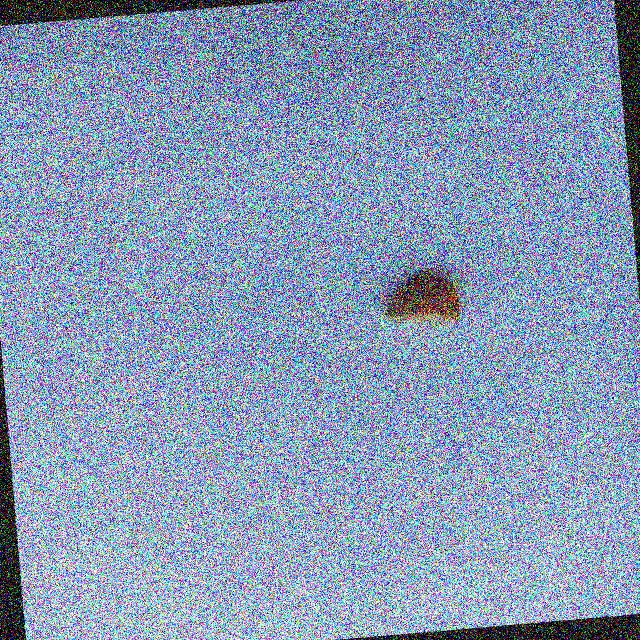grade4: (373, 266, 469, 336)
